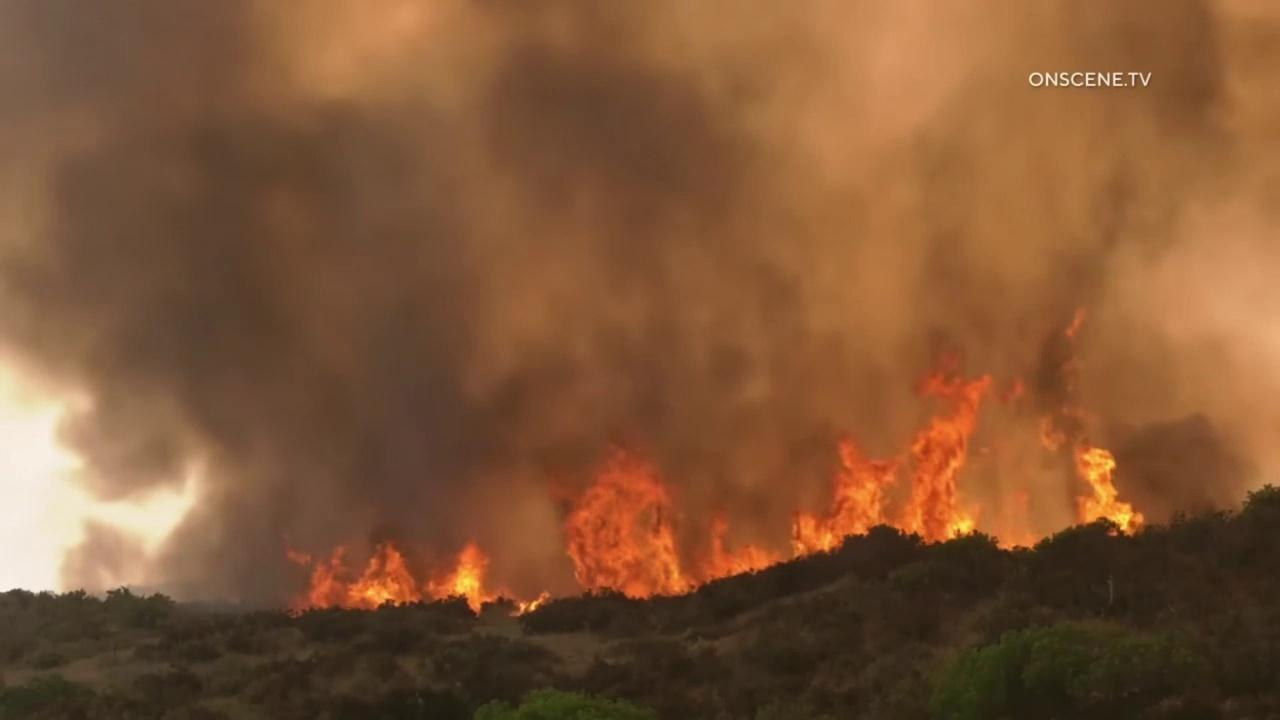fire: (790, 351, 994, 563), (552, 435, 781, 599), (279, 540, 550, 620), (1072, 446, 1146, 537), (997, 485, 1038, 551)
smoke: (0, 0, 1280, 618)
